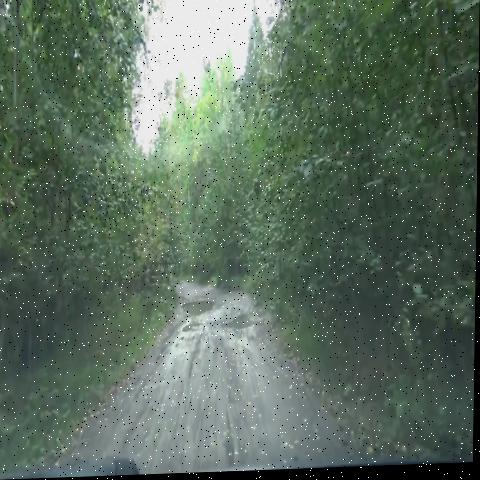pothole: (214, 305, 264, 337), (180, 292, 220, 323), (176, 322, 206, 339)
